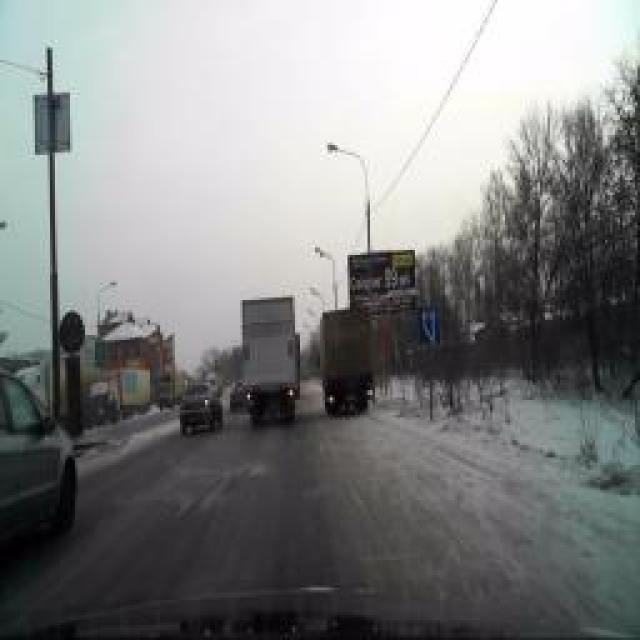sign: (418, 304, 440, 346)
